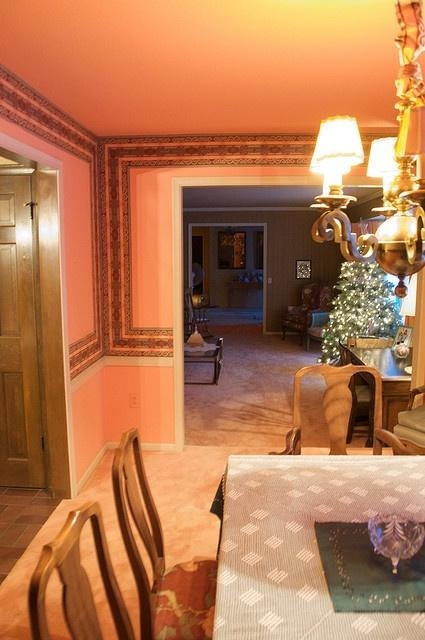Kursi: (108, 421, 217, 639)
